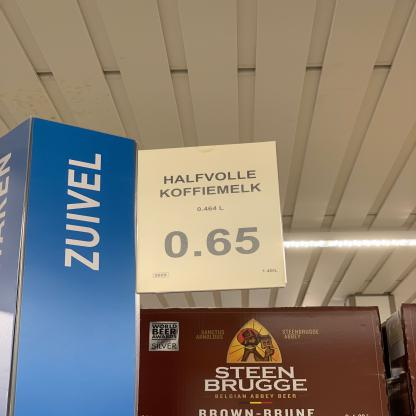prtg: (136, 141, 288, 295)
